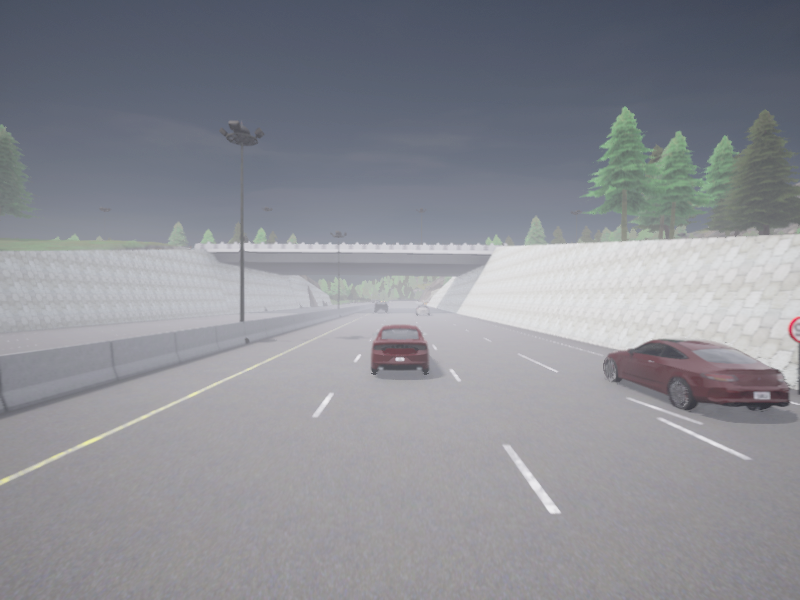vehicle: (604, 338, 789, 409), (371, 325, 429, 372), (374, 301, 388, 312), (415, 305, 429, 314)
